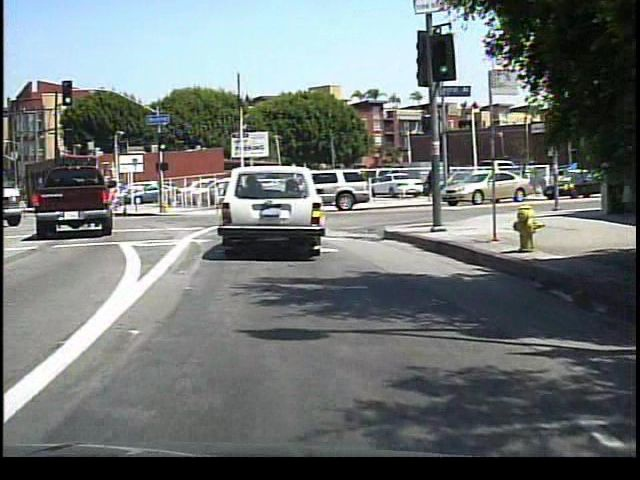person: (420, 162, 439, 204)
